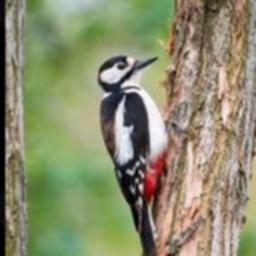Woodpecker: (97, 57, 169, 256)
